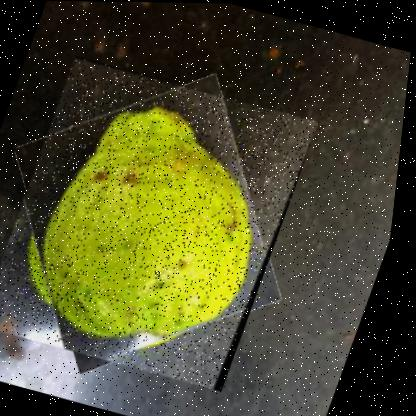guava: (0, 54, 326, 391)
